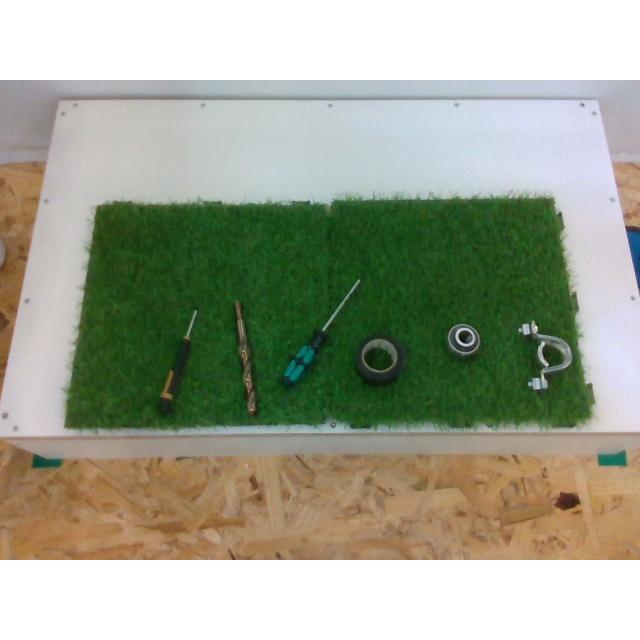Bearing2: (447, 323, 479, 353)
Drill: (235, 301, 258, 415)
Housing: (520, 320, 572, 388)
Screwdriver: (283, 278, 359, 386)
